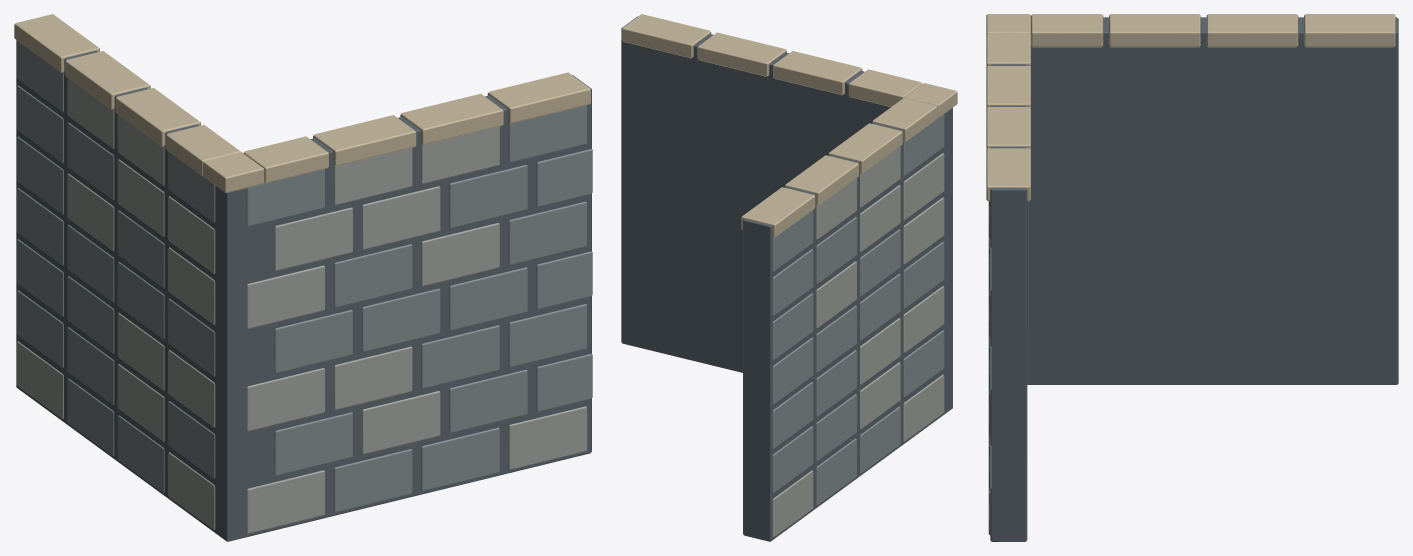
File: SM_Corner_4m.glb
The picture shows the model from 3 angles, left to right: view 1: azimuth 30°, elevation 25°; view 2: azimuth 150°, elevation 25°; view 3: azimuth 270°, elevation 25°; orthographic projection. The views are drawn at different scales.
Visible parts, largest first — view 1: SM_Corner_4m; view 2: SM_Corner_4m; view 3: SM_Corner_4m.
Boxes of the visible parts, bbox=[...] form: SM_Corner_4m: bbox=[14, 14, 592, 541]; SM_Corner_4m: bbox=[621, 14, 957, 541]; SM_Corner_4m: bbox=[986, 14, 1398, 541].
Size of the model in its own units: 4.23 by 4.02 by 4.23.
